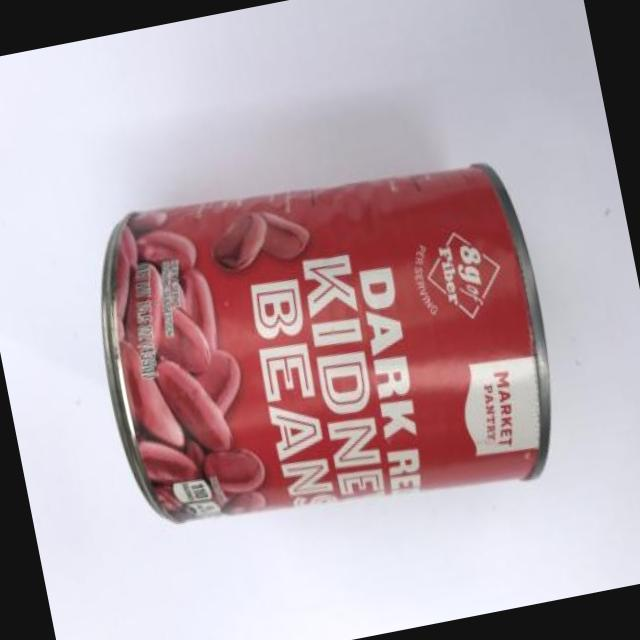kim_loai: (100, 162, 554, 527)
